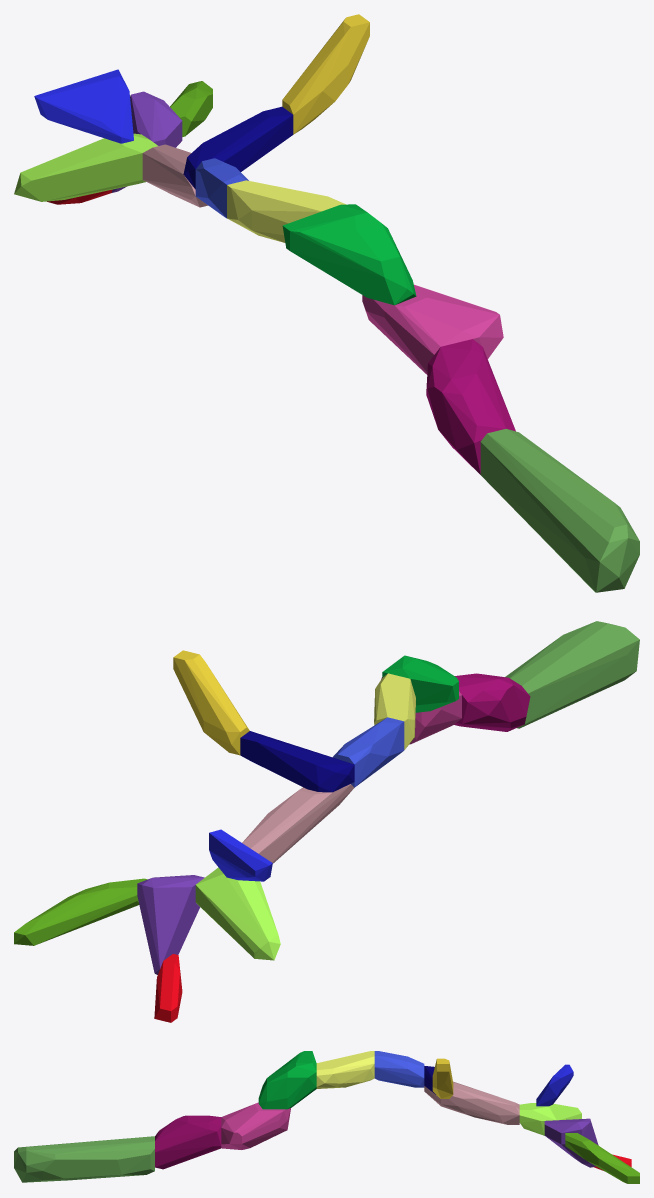
File: dry_branches_medium_01a_phys.fbx
3 renders of one model, top to bottom at view 1: azimuth 30°, elevation 25°; view 2: azimuth 150°, elevation 25°; view 3: azimuth 270°, elevation 25°, orthographic. The views are drawn at different scales.
Parts seen in each view (by area): view 1: dry_branches_medium_01_a_hull_1, dry_branches_medium_01_a_hull_2, dry_branches_medium_01_a_hull_4, dry_branches_medium_01_a_hull_5, dry_branches_medium_01_a_hull_13, dry_branches_medium_01_a_hull_10, dry_branches_medium_01_a_hull_9, dry_branches_medium_01_a_hull_6, dry_branches_medium_01_a_hull_8, dry_branches_medium_01_a_hull_3, dry_branches_medium_01_a_hull_11, dry_branches_medium_01_a_hull_7 (+1 smaller); view 2: dry_branches_medium_01_a_hull_1, dry_branches_medium_01_a_hull_13, dry_branches_medium_01_a_hull_11, dry_branches_medium_01_a_hull_12, dry_branches_medium_01_a_hull_8, dry_branches_medium_01_a_hull_9, dry_branches_medium_01_a_hull_3, dry_branches_medium_01_a_hull_4, dry_branches_medium_01_a_hull_7, dry_branches_medium_01_a_hull_2, dry_branches_medium_01_a_hull_10, dry_branches_medium_01_a_hull_6 (+2 smaller); view 3: dry_branches_medium_01_a_hull_1, dry_branches_medium_01_a_hull_4, dry_branches_medium_01_a_hull_5, dry_branches_medium_01_a_hull_2, dry_branches_medium_01_a_hull_3, dry_branches_medium_01_a_hull_6, dry_branches_medium_01_a_hull_12, dry_branches_medium_01_a_hull_7, dry_branches_medium_01_a_hull_13, dry_branches_medium_01_a_hull_11, dry_branches_medium_01_a_hull_10, dry_branches_medium_01_a_hull_9 (+1 smaller).
Boxes of the visible parts, box(x1,y1,x2,y2) form: dry_branches_medium_01_a_hull_1: box(480, 428, 639, 592); dry_branches_medium_01_a_hull_2: box(282, 204, 416, 305); dry_branches_medium_01_a_hull_4: box(426, 339, 515, 474); dry_branches_medium_01_a_hull_5: box(362, 284, 503, 374); dry_branches_medium_01_a_hull_13: box(14, 133, 157, 201); dry_branches_medium_01_a_hull_10: box(34, 69, 133, 143); dry_branches_medium_01_a_hull_9: box(282, 14, 369, 134); dry_branches_medium_01_a_hull_6: box(227, 180, 345, 242); dry_branches_medium_01_a_hull_8: box(183, 106, 293, 189); dry_branches_medium_01_a_hull_3: box(142, 144, 207, 207); dry_branches_medium_01_a_hull_11: box(112, 91, 182, 192); dry_branches_medium_01_a_hull_7: box(195, 158, 248, 218); dry_branches_medium_01_a_hull_1: box(505, 621, 639, 728); dry_branches_medium_01_a_hull_13: box(195, 867, 280, 960); dry_branches_medium_01_a_hull_11: box(137, 875, 204, 974); dry_branches_medium_01_a_hull_12: box(14, 878, 147, 945); dry_branches_medium_01_a_hull_8: box(240, 731, 354, 792); dry_branches_medium_01_a_hull_9: box(173, 650, 249, 755); dry_branches_medium_01_a_hull_3: box(242, 784, 354, 863); dry_branches_medium_01_a_hull_4: box(454, 673, 530, 731); dry_branches_medium_01_a_hull_7: box(332, 717, 404, 787); dry_branches_medium_01_a_hull_2: box(382, 655, 458, 712); dry_branches_medium_01_a_hull_10: box(209, 829, 272, 881); dry_branches_medium_01_a_hull_6: box(374, 673, 415, 749); dry_branches_medium_01_a_hull_1: box(14, 1136, 154, 1182); dry_branches_medium_01_a_hull_4: box(155, 1115, 221, 1169); dry_branches_medium_01_a_hull_5: box(221, 1102, 290, 1149); dry_branches_medium_01_a_hull_2: box(258, 1051, 316, 1109); dry_branches_medium_01_a_hull_3: box(424, 1081, 519, 1124); dry_branches_medium_01_a_hull_6: box(316, 1051, 374, 1088); dry_branches_medium_01_a_hull_12: box(565, 1133, 639, 1183); dry_branches_medium_01_a_hull_7: box(374, 1051, 424, 1087); dry_branches_medium_01_a_hull_13: box(519, 1103, 581, 1135); dry_branches_medium_01_a_hull_11: box(544, 1118, 598, 1167); dry_branches_medium_01_a_hull_10: box(536, 1064, 573, 1106); dry_branches_medium_01_a_hull_9: box(432, 1058, 453, 1098).
Size of the model in its own units: 12.96 by 51.49 by 13.64.
